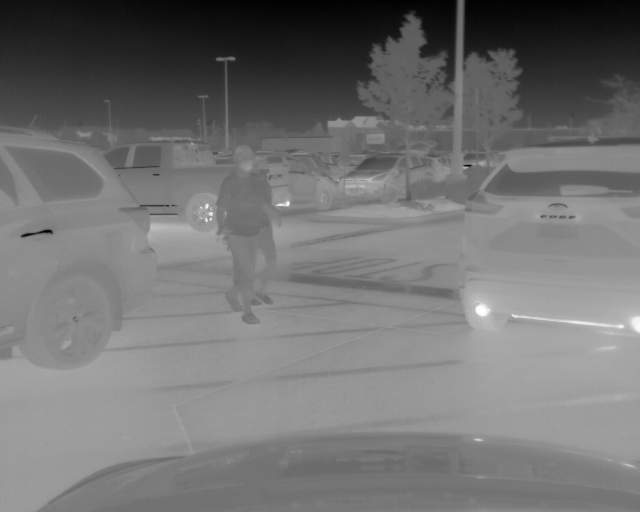car: (1, 125, 160, 370), (456, 136, 640, 340), (107, 142, 291, 233), (252, 150, 343, 214), (341, 152, 444, 206), (460, 148, 498, 173)
people: (215, 145, 263, 323), (243, 153, 280, 304)
